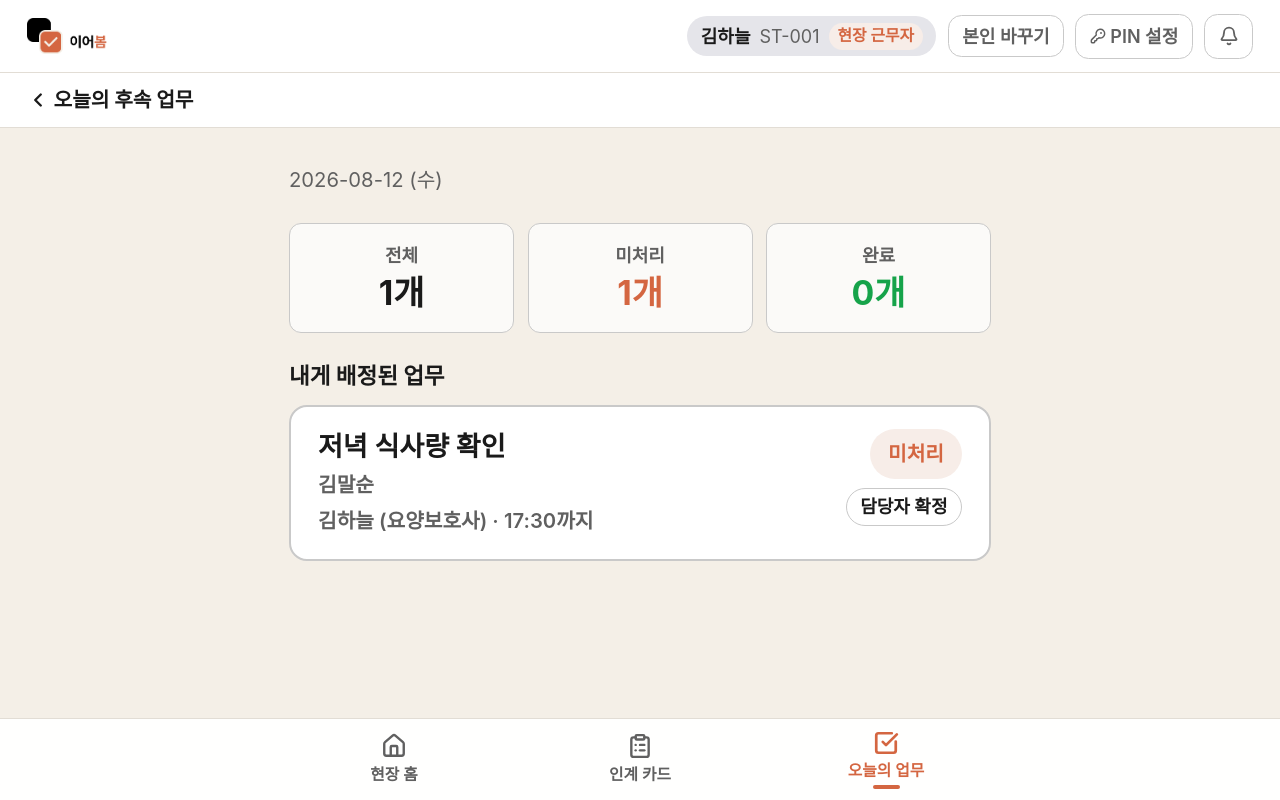
업무 목록 (n31 · n32) › 업무를 고르면 상세로 간다
Click the button "저녁 식사량 확인 김말순 김하늘 (요양보호사) · 17:30까지 미처리 담당자 확정" at (412, 446), box top-left (289, 404), bottom-right (991, 562)
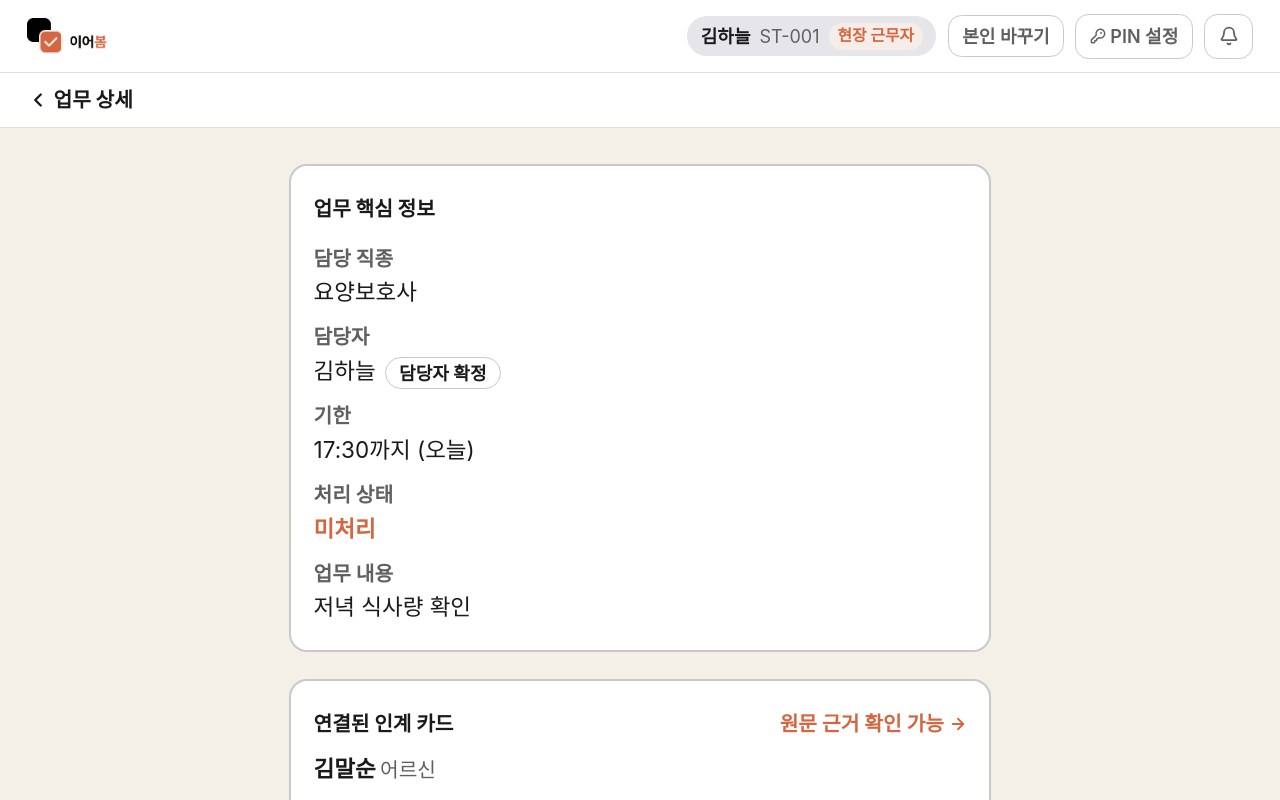
Expected: the text "업무 상세" is shown, top-left (54, 84), bottom-right (133, 116)
